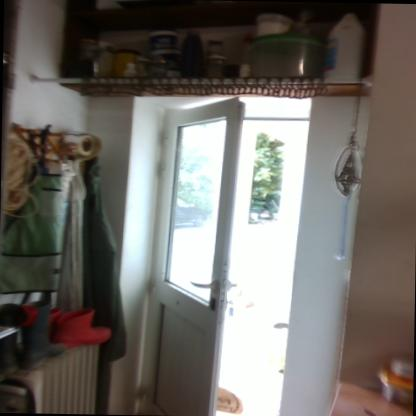semi: (124, 91, 332, 416)
